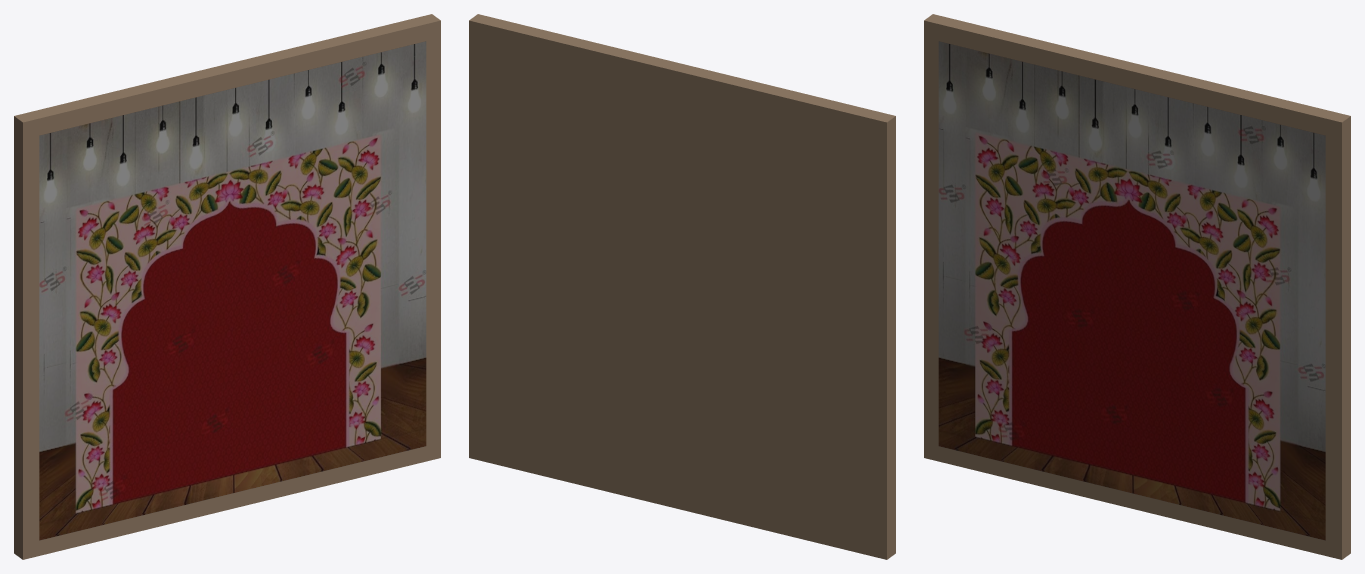
File: B0FPXFTFK1.glb
3 views of the same model, side by side, from view 1: azimuth 30°, elevation 25°; view 2: azimuth 150°, elevation 25°; view 3: azimuth 330°, elevation 25° (orthographic).
Parts seen in each view (by area): view 1: photo, frame; view 2: frame; view 3: photo, frame.
Part boxes in pixels (x1=…): photo: x1=39, y1=41, x2=426, y2=540; frame: x1=14, y1=14, x2=440, y2=559; frame: x1=469, y1=14, x2=895, y2=559; photo: x1=938, y1=41, x2=1325, y2=540; frame: x1=924, y1=14, x2=1350, y2=559.
Bounding box in the file's own units: 0.54 × 0.54 × 0.022.
Materials: 1 (1 with a texture image).
